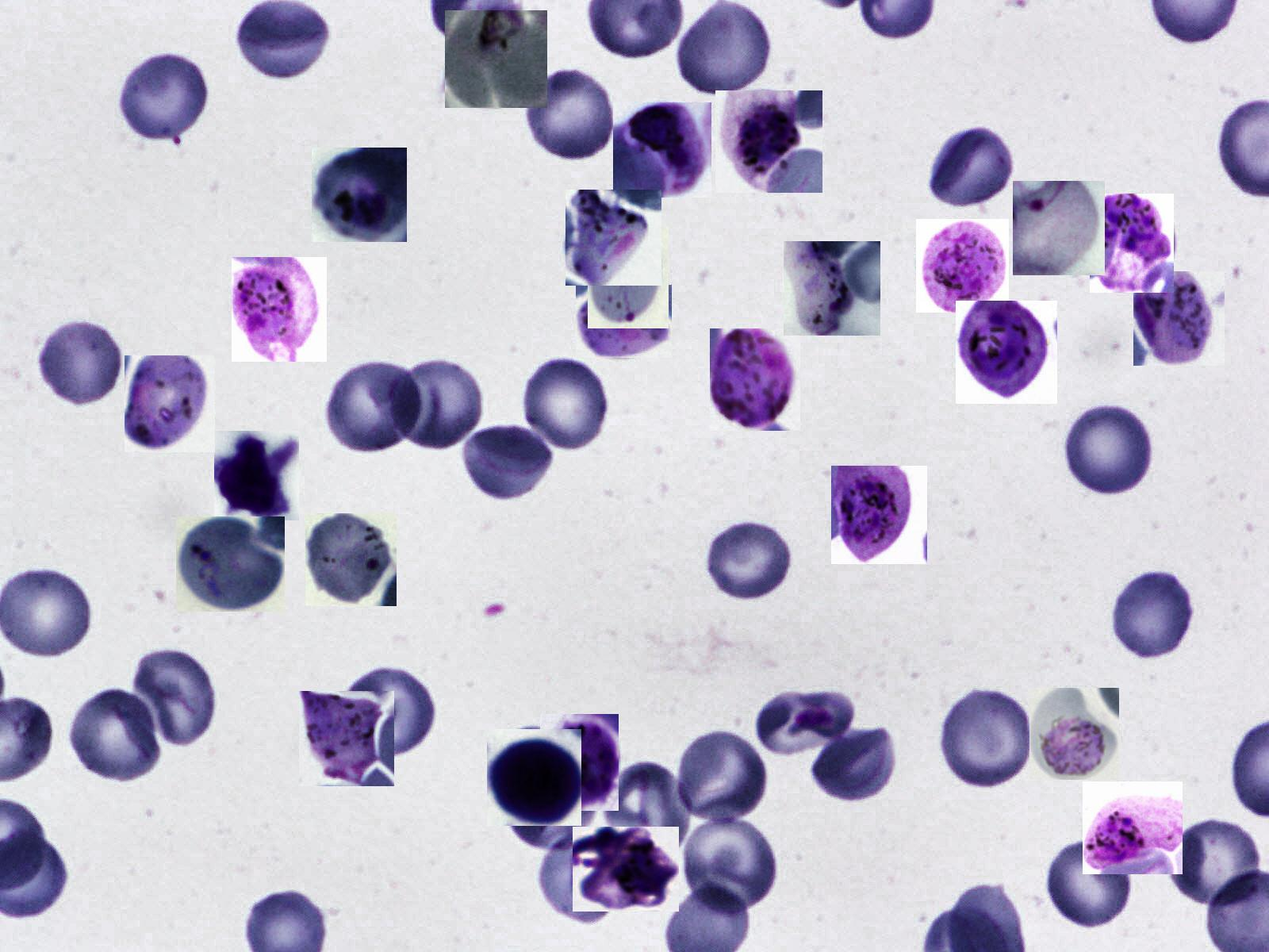Infected: (716, 90, 822, 193), (176, 516, 285, 612), (956, 301, 1057, 404), (445, 10, 547, 108), (232, 258, 327, 363), (831, 466, 927, 564), (613, 102, 711, 198), (1083, 781, 1183, 874), (711, 328, 801, 431), (565, 190, 661, 286), (784, 241, 880, 336), (487, 729, 581, 826), (299, 691, 394, 786), (573, 827, 679, 912), (312, 148, 407, 242), (916, 219, 1009, 313), (1133, 271, 1225, 366), (125, 355, 215, 452), (1013, 181, 1105, 275), (306, 513, 397, 606), (1090, 194, 1174, 293), (1029, 688, 1119, 780), (588, 226, 669, 328), (540, 714, 619, 811), (214, 431, 299, 520), (576, 285, 672, 358)
Uninfected: (940, 685, 1035, 793), (503, 749, 600, 853), (115, 48, 214, 147), (523, 62, 619, 164), (320, 358, 425, 451), (673, 2, 774, 97), (519, 353, 614, 454), (683, 816, 776, 919), (67, 685, 165, 781), (389, 355, 487, 451), (1061, 400, 1156, 498), (601, 761, 691, 863), (128, 646, 217, 749), (336, 657, 431, 753), (534, 831, 630, 925), (1166, 817, 1264, 908), (1110, 566, 1199, 662), (1043, 839, 1136, 929), (680, 731, 765, 824), (36, 317, 125, 405), (754, 685, 859, 758), (237, 2, 330, 81), (811, 724, 900, 806), (462, 424, 555, 500), (929, 126, 1014, 206), (707, 522, 792, 601)
